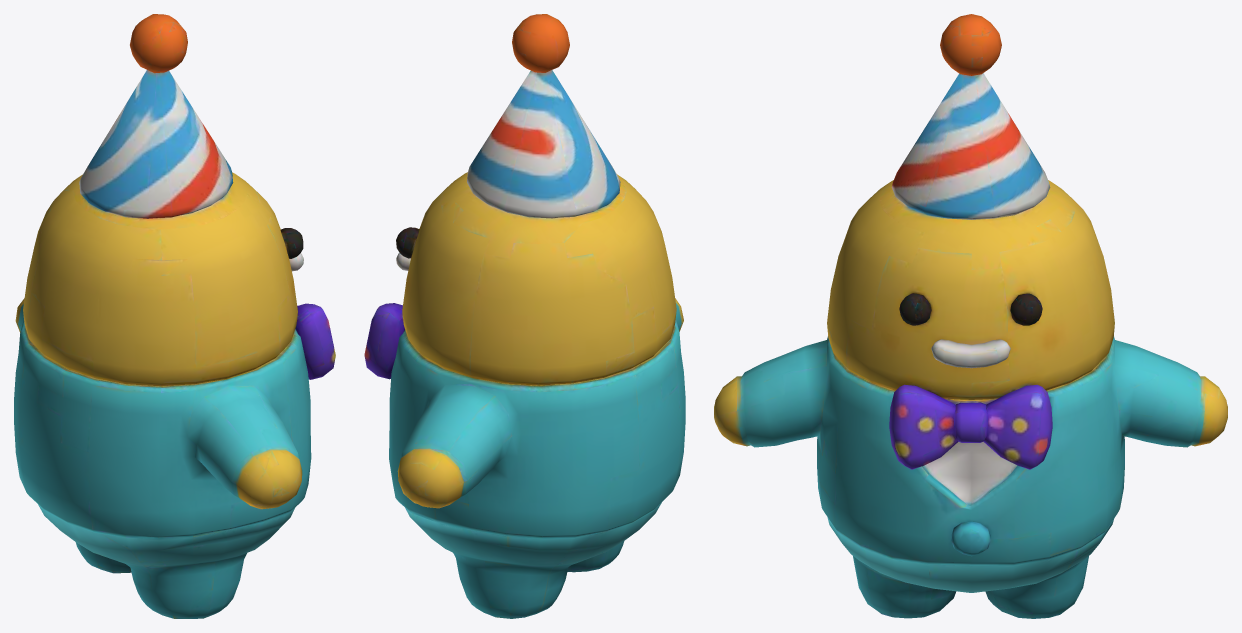
Rendered from char-5-party.glb.
The picture shows the model from 3 angles, left to right: view 1: azimuth 30°, elevation 25°; view 2: azimuth 150°, elevation 25°; view 3: azimuth 270°, elevation 25°; orthographic projection. The views are drawn at different scales.
Visible parts, largest first — view 1: tripo_node_d0bad002-d6d7-4848-a856-391aa07ad83e; view 2: tripo_node_d0bad002-d6d7-4848-a856-391aa07ad83e; view 3: tripo_node_d0bad002-d6d7-4848-a856-391aa07ad83e.
Part boxes in pixels (x1,y1,x2,y2): tripo_node_d0bad002-d6d7-4848-a856-391aa07ad83e: (14, 14, 335, 618); tripo_node_d0bad002-d6d7-4848-a856-391aa07ad83e: (364, 14, 685, 618); tripo_node_d0bad002-d6d7-4848-a856-391aa07ad83e: (714, 14, 1227, 618).
Size of the model in its own units: 0.4941 by 0.998 by 0.791.
1 material, 1 textured.
